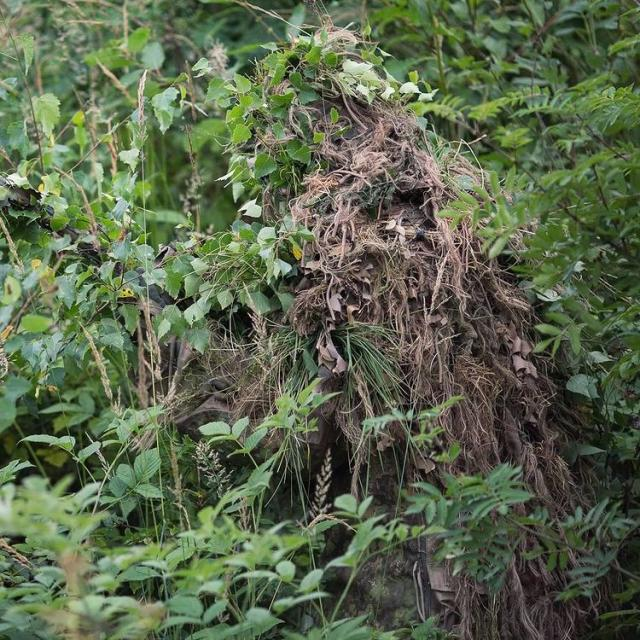Camouflage: (161, 31, 623, 614)
